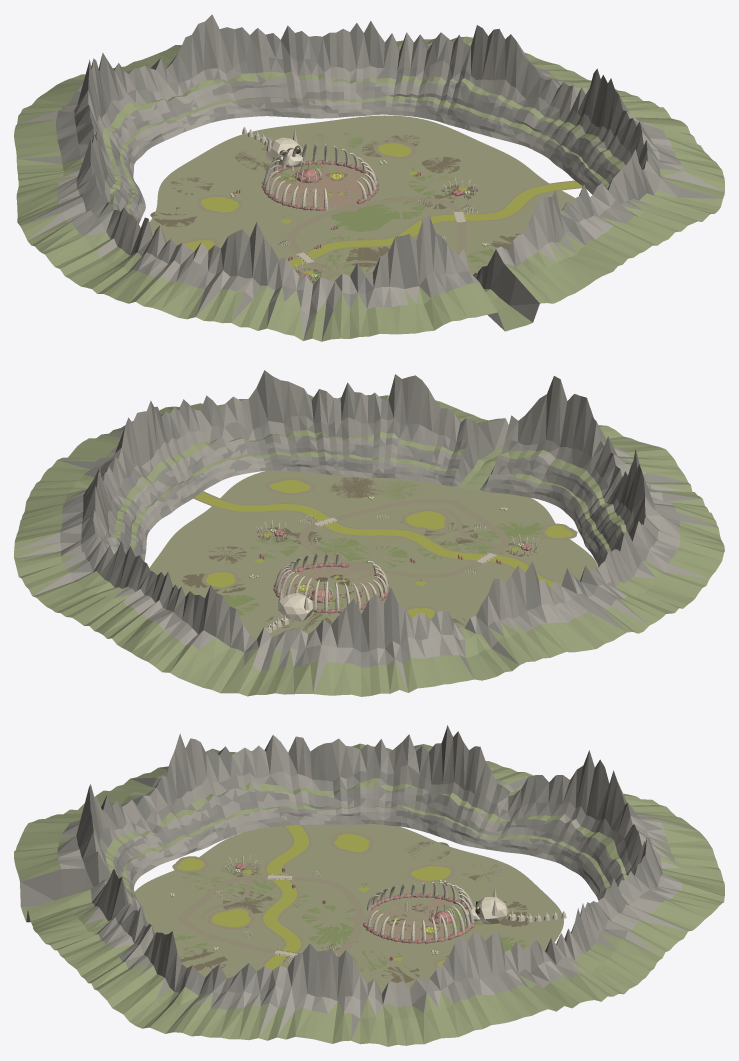
Rendered from map_fort_ghoul.glb.
The picture shows the model from 3 angles, top to bottom: view 1: azimuth 30°, elevation 25°; view 2: azimuth 150°, elevation 25°; view 3: azimuth 270°, elevation 25°; orthographic projection.
Parts seen in each view (by area): view 1: Z_fort_ghoul_penhascos, Z_fort_ghoul_chao_charco, Z_fort_ghoul_chao_patio, Z_fort_ghoul_agua_rio_1, Z_fort_ghoul_chao_musgo_12, Z_fort_ghoul_margem_rio_1, Z_fort_ghoul_estrada_trilha_leste, Z_fort_ghoul_estrada_trilha_oeste, Z_fort_ghoul_chao_lama_7, Z_fort_ghoul_chao_musgo_0; view 2: Z_fort_ghoul_penhascos, Z_fort_ghoul_chao_charco, Z_fort_ghoul_agua_rio_1, Z_fort_ghoul_margem_rio_1, Z_fort_ghoul_estrada_trilha_oeste, Z_fort_ghoul_estrada_trilha_leste, Z_fort_ghoul_chao_patio, Z_fort_ghoul_cranio, Z_fort_ghoul_chao_lama_1, Z_fort_ghoul_chao_musgo_18, Z_fort_ghoul_chao_musgo_0, Z_fort_ghoul_chao_musgo_12; view 3: Z_fort_ghoul_penhascos, Z_fort_ghoul_chao_charco, Z_fort_ghoul_agua_rio_1, Z_fort_ghoul_chao_patio, Z_fort_ghoul_estrada_trilha_oeste, Z_fort_ghoul_estrada_trilha_leste, Z_fort_ghoul_margem_rio_1, Z_fort_ghoul_cranio, Z_fort_ghoul_chao_musgo_0.
Part boxes in pixels (x1,y1,x2,y2): Z_fort_ghoul_penhascos: [14, 14, 724, 341]; Z_fort_ghoul_chao_charco: [149, 115, 575, 283]; Z_fort_ghoul_chao_patio: [267, 164, 371, 208]; Z_fort_ghoul_agua_rio_1: [288, 181, 582, 267]; Z_fort_ghoul_chao_musgo_12: [331, 206, 392, 231]; Z_fort_ghoul_margem_rio_1: [288, 180, 582, 268]; Z_fort_ghoul_estrada_trilha_leste: [348, 196, 466, 255]; Z_fort_ghoul_estrada_trilha_oeste: [287, 206, 369, 276]; Z_fort_ghoul_chao_lama_7: [346, 246, 389, 267]; Z_fort_ghoul_chao_musgo_0: [372, 196, 426, 219]; Z_fort_ghoul_penhascos: [14, 370, 724, 696]; Z_fort_ghoul_chao_charco: [149, 470, 598, 638]; Z_fort_ghoul_agua_rio_1: [195, 492, 561, 587]; Z_fort_ghoul_margem_rio_1: [193, 491, 562, 583]; Z_fort_ghoul_estrada_trilha_oeste: [360, 500, 509, 577]; Z_fort_ghoul_estrada_trilha_leste: [299, 499, 451, 568]; Z_fort_ghoul_chao_patio: [280, 566, 380, 608]; Z_fort_ghoul_cranio: [278, 593, 313, 621]; Z_fort_ghoul_chao_lama_1: [329, 477, 380, 498]; Z_fort_ghoul_chao_musgo_18: [493, 522, 545, 543]; Z_fort_ghoul_chao_musgo_0: [311, 538, 362, 558]; Z_fort_ghoul_chao_musgo_12: [347, 546, 407, 568]; Z_fort_ghoul_penhascos: [14, 725, 724, 1046]; Z_fort_ghoul_chao_charco: [134, 824, 563, 993]; Z_fort_ghoul_agua_rio_1: [263, 825, 308, 969]; Z_fort_ghoul_chao_patio: [365, 897, 466, 939]; Z_fort_ghoul_estrada_trilha_oeste: [177, 875, 364, 919]; Z_fort_ghoul_estrada_trilha_leste: [177, 918, 364, 954]; Z_fort_ghoul_margem_rio_1: [261, 825, 311, 968]; Z_fort_ghoul_cranio: [475, 897, 508, 924]; Z_fort_ghoul_chao_musgo_0: [308, 927, 359, 948].
Size of the model in its own units: 361 by 61.81 by 364.
